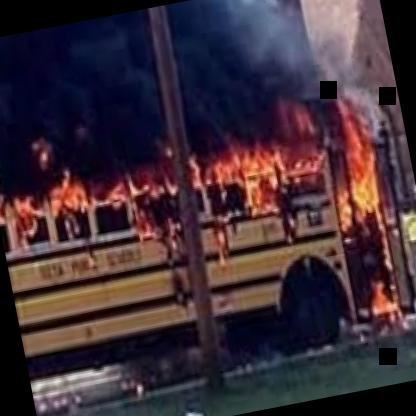fire: (0, 83, 414, 370)
